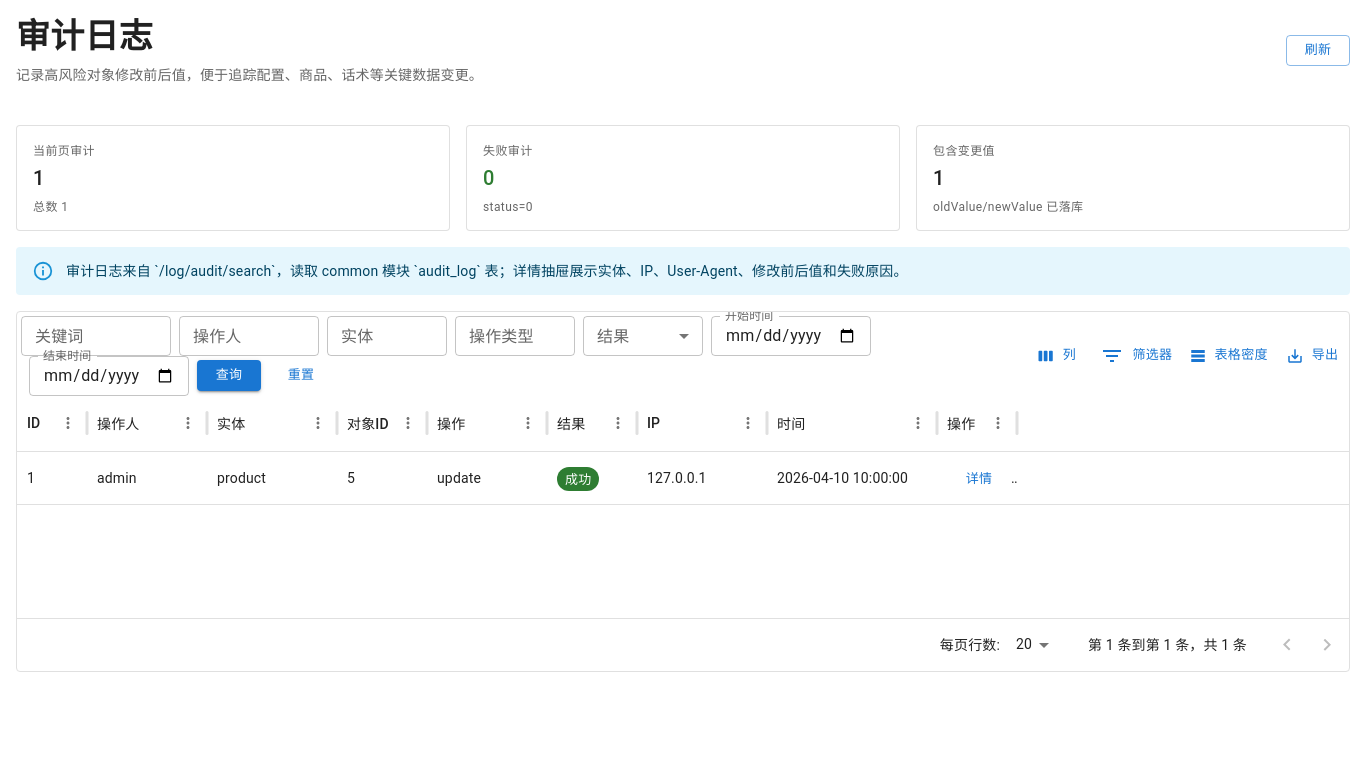
Test: AuditLogPage › loads audit logs and renders row content
The width and height of the screenshot is (1366, 768).
Expected: the heading "审计日志" is shown, top-left (16, 16), bottom-right (153, 56)
Expected: the text "admin" is shown, top-left (97, 470), bottom-right (137, 486)
Click the button with test id "audit-log-detail-action" at [979, 479], box top-left (947, 464), bottom-right (1011, 495)
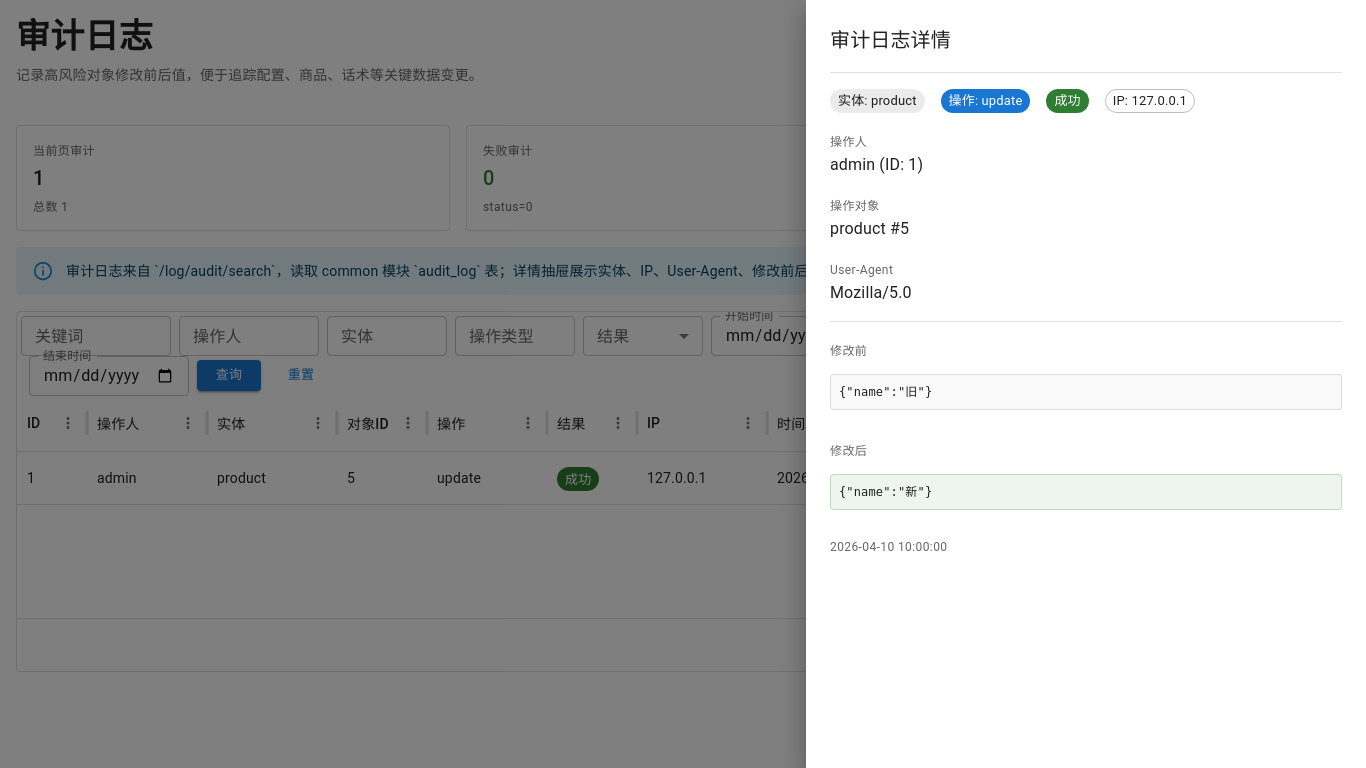
Expected: the text "修改前" is shown, top-left (830, 344), bottom-right (867, 358)
Expected: the text "修改后" is shown, top-left (830, 444), bottom-right (867, 458)
